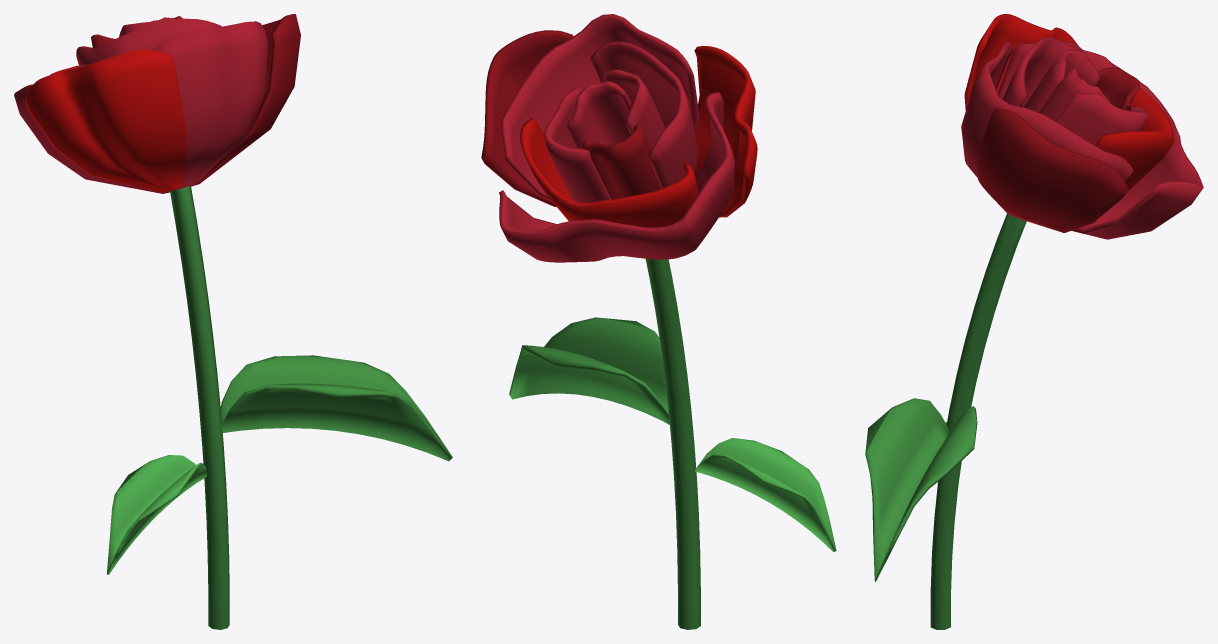
Rendered from FlorRosa1.fbx.
3 views of the same model, side by side, from view 1: azimuth 30°, elevation 25°; view 2: azimuth 150°, elevation 25°; view 3: azimuth 270°, elevation 25° (orthographic). The views are drawn at different scales.
Parts seen in each view (by area): view 1: BezierCurve, Plane, Cube, Plane.001; view 2: BezierCurve, Plane, Cube, Plane.001; view 3: BezierCurve, Plane, Cube.
Boxes of the visible parts, x1=… form: BezierCurve: x1=14, y1=14, x2=300, y2=193; Plane: x1=220, y1=355, x2=452, y2=461; Cube: x1=170, y1=186, x2=229, y2=629; Plane.001: x1=107, y1=455, x2=207, y2=574; BezierCurve: x1=481, y1=14, x2=757, y2=262; Plane: x1=509, y1=317, x2=669, y2=424; Cube: x1=645, y1=258, x2=700, y2=629; Plane.001: x1=695, y1=438, x2=836, y2=551; BezierCurve: x1=961, y1=14, x2=1203, y2=239; Plane: x1=865, y1=398, x2=977, y2=581; Cube: x1=930, y1=213, x2=1026, y2=629.
Size of the model in its own units: 1402 by 2364 by 1245.
